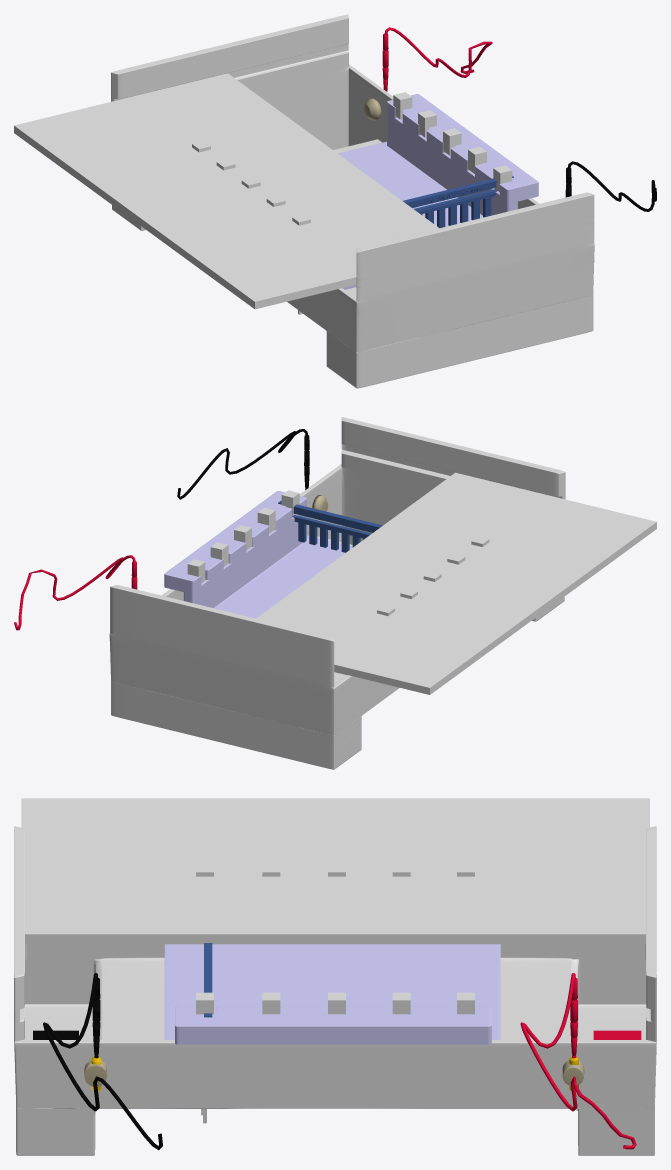
File: Gel Electrophoresis Set Up.fbx
The picture shows the model from 3 angles, top to bottom: view 1: azimuth 30°, elevation 25°; view 2: azimuth 150°, elevation 25°; view 3: azimuth 270°, elevation 25°; orthographic projection. The views are drawn at different scales.
Parts seen in each view (by area): view 1: Gel Tank Setup 2, Chamber Lid, Gel Tank setup 1, Cube.010, Comb, Electrode.001, Electrode; view 2: Gel Tank Setup 2, Chamber Lid, Gel Tank setup 1, Comb, Cube.010, Electrode, Electrode.001; view 3: Chamber Lid, Gel Tank Setup 2, Gel Tank setup 1, Cube.010, Electrode, Electrode.001.
Part boxes in pixels (<box>): Gel Tank Setup 2: <box>111,14,594,388</box>; Chamber Lid: <box>14,73,438,309</box>; Gel Tank setup 1: <box>338,94,538,289</box>; Cube.010: <box>192,92,512,225</box>; Comb: <box>403,176,513,228</box>; Electrode.001: <box>382,27,492,91</box>; Electrode: <box>565,161,656,211</box>; Gel Tank Setup 2: <box>109,417,565,769</box>; Chamber Lid: <box>256,472,656,694</box>; Gel Tank setup 1: <box>164,491,352,674</box>; Comb: <box>278,500,382,552</box>; Cube.010: <box>187,490,489,616</box>; Electrode: <box>177,429,309,499</box>; Electrode.001: <box>14,555,137,630</box>; Chamber Lid: <box>21,798,649,944</box>; Gel Tank Setup 2: <box>14,826,656,1155</box>; Gel Tank setup 1: <box>164,944,500,1044</box>; Cube.010: <box>196,864,474,1014</box>; Electrode: <box>43,973,162,1150</box>; Electrode.001: <box>520,973,636,1149</box>.
Size of what is drawn, in the model's own units: 419 by 128 by 393.
